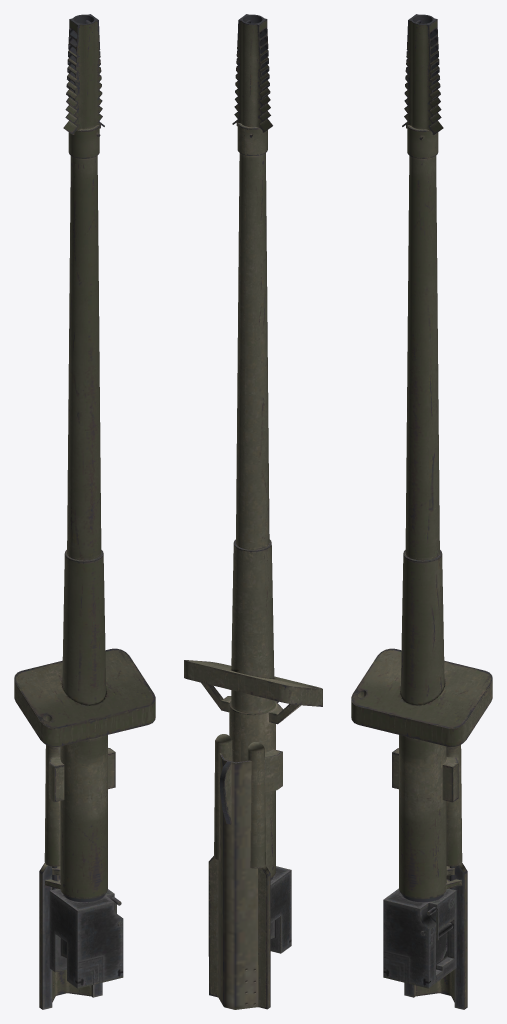
The model's file is Gun_01.glb.
3 renders of one model, left to right at view 1: azimuth 30°, elevation 25°; view 2: azimuth 150°, elevation 25°; view 3: azimuth 330°, elevation 25°, orthographic.
Parts seen in each view (by area): view 1: set_0_group_0; view 2: set_0_group_0; view 3: set_0_group_0.
Part boxes in pixels (x1,y1,x2,y2): set_0_group_0: [14, 14, 155, 1009]; set_0_group_0: [184, 14, 322, 1009]; set_0_group_0: [351, 14, 492, 1009].
Bounding box in the file's own units: 1.07 × 8.91 × 0.8278.
Materials: 1 (1 with a texture image).
